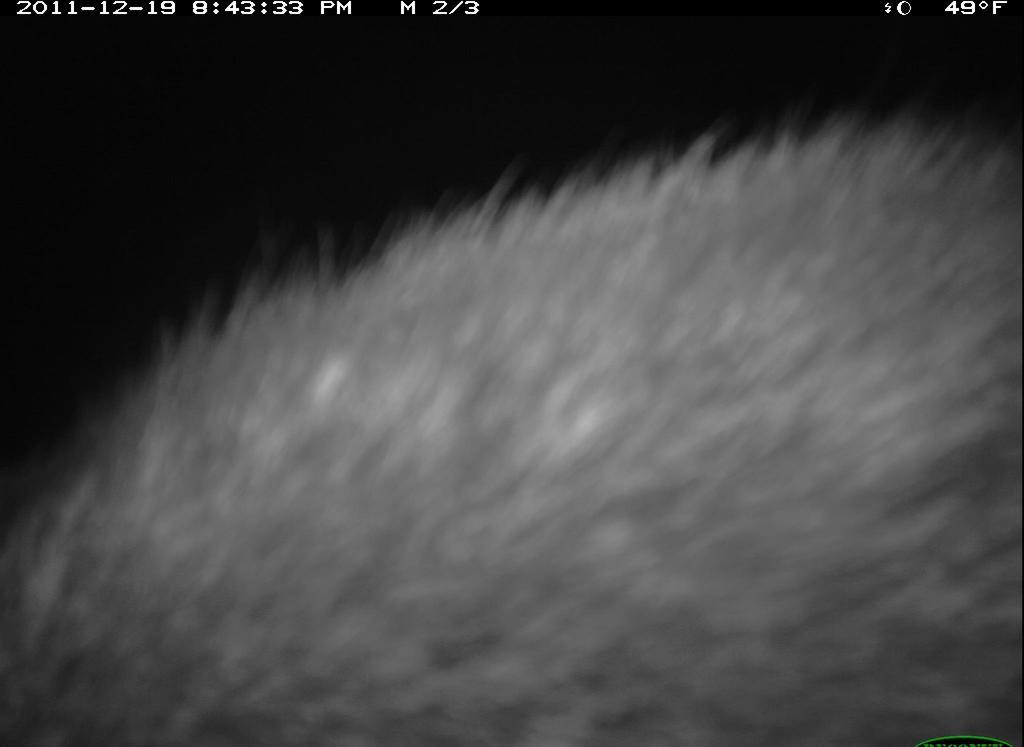raccoon: (9, 117, 1021, 747)
